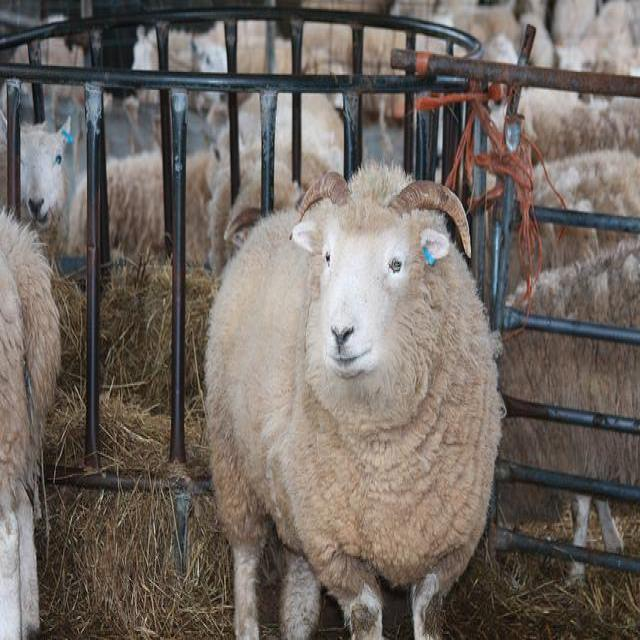Sheep: (202, 166, 503, 638), (495, 235, 639, 588), (1, 205, 62, 634), (210, 93, 345, 283), (481, 106, 639, 260), (475, 31, 639, 165), (67, 144, 217, 270), (0, 109, 74, 258), (554, 0, 639, 108), (194, 21, 293, 78), (130, 21, 197, 78), (559, 199, 599, 270)
